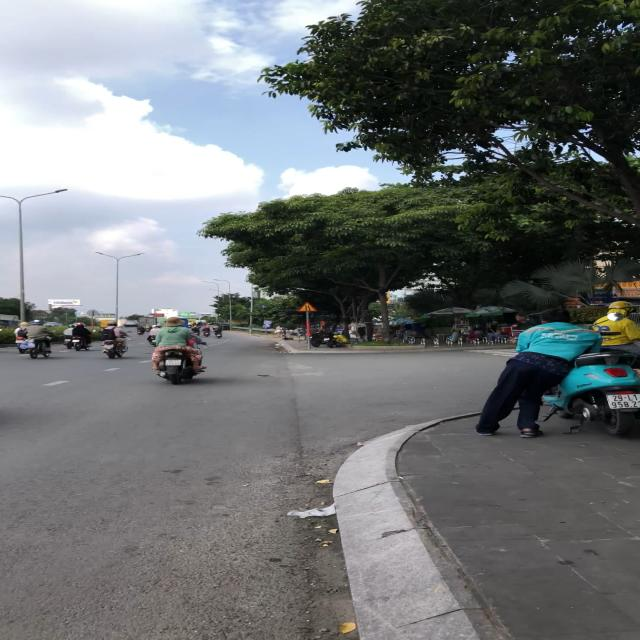Bien bao duong bi thu hep: (296, 302, 318, 312)
